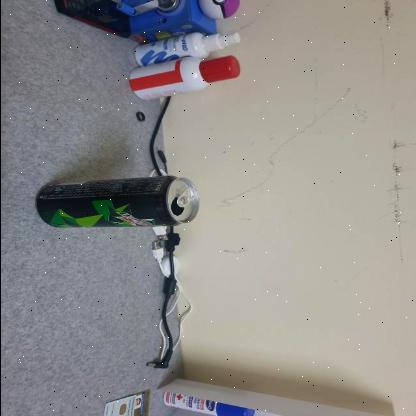Can: (32, 172, 200, 237)
